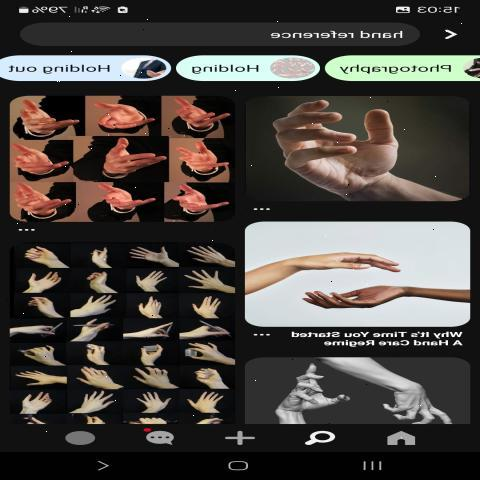Hands: (256, 95, 419, 203), (281, 272, 437, 322), (270, 236, 406, 284), (90, 131, 166, 179), (85, 100, 156, 136), (12, 138, 72, 179), (165, 182, 232, 218), (10, 184, 69, 216)
